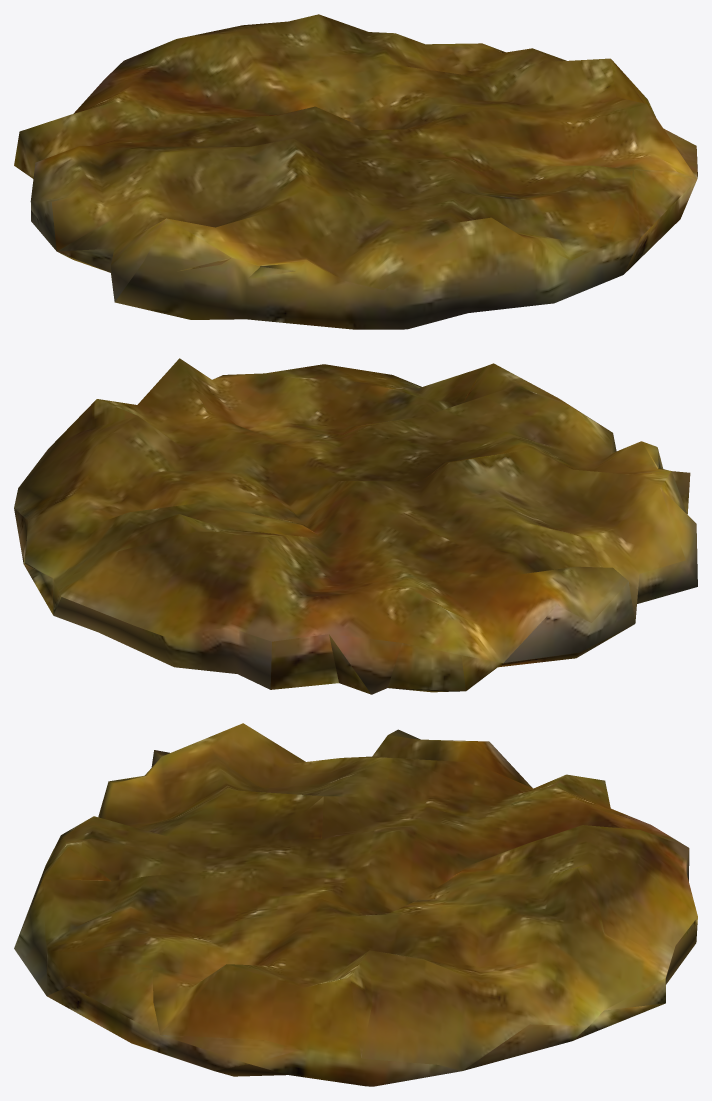
Rendered from sauce-relish.glb.
3 renders of one model, top to bottom at view 1: azimuth 30°, elevation 25°; view 2: azimuth 150°, elevation 25°; view 3: azimuth 270°, elevation 25°, orthographic. The views are drawn at different scales.
Visible parts, largest first — view 1: sauce-relish; view 2: sauce-relish; view 3: sauce-relish.
Part boxes in pixels (bbox=[...]): sauce-relish: bbox=[14, 14, 697, 329]; sauce-relish: bbox=[14, 358, 697, 694]; sauce-relish: bbox=[14, 723, 697, 1086].
Bounding box in the file's own units: 8.45 × 1.56 × 8.05.
1 material, 1 textured.
